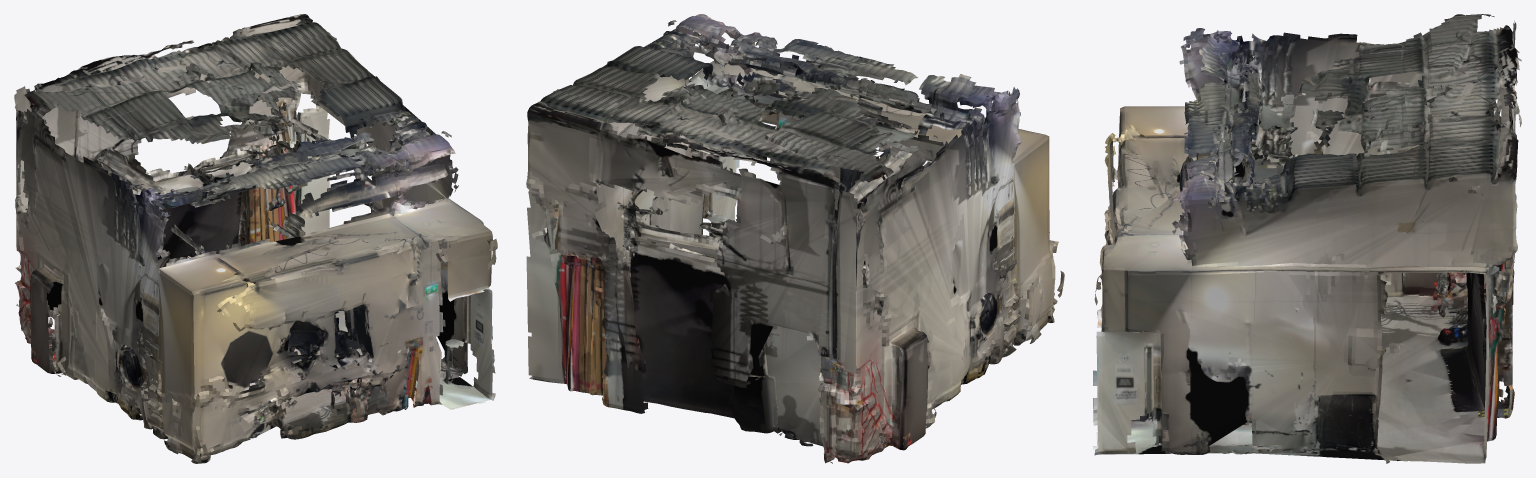
The model's file is Photography_room_2-IM.fbx.
3 views of the same model, side by side, from view 1: azimuth 30°, elevation 25°; view 2: azimuth 150°, elevation 25°; view 3: azimuth 270°, elevation 25° (orthographic). The views are drawn at different scales.
Visible parts, largest first — view 1: Photography_room_2-IM; view 2: Photography_room_2-IM; view 3: Photography_room_2-IM.
Boxes of the visible parts, box(x1,y1,x2,y2) form: Photography_room_2-IM: box(14, 14, 497, 463); Photography_room_2-IM: box(526, 14, 1064, 463); Photography_room_2-IM: box(1093, 14, 1521, 463).
Bounding box in the file's own units: 732 × 583 × 755.
1 material, 1 textured.
